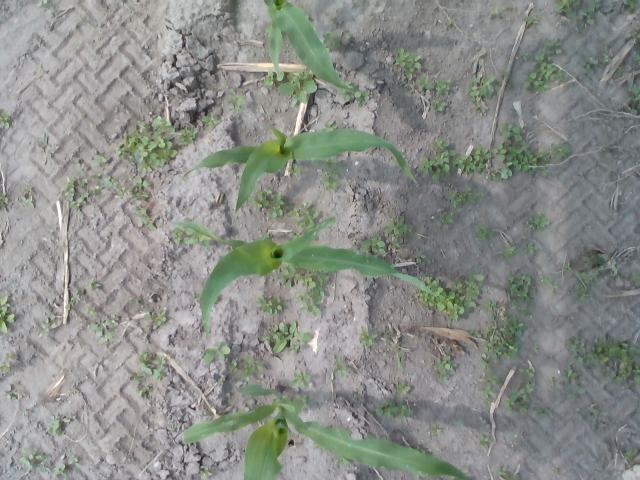Maize: (175, 216, 462, 333), (178, 382, 477, 480), (185, 125, 416, 220), (260, 0, 364, 92)
Weeds: (114, 115, 178, 174), (586, 336, 640, 387), (488, 138, 550, 182), (448, 270, 490, 322), (482, 310, 524, 362), (264, 321, 314, 355), (295, 270, 330, 318), (524, 54, 568, 92), (553, 0, 600, 35), (278, 69, 318, 106), (507, 272, 538, 317), (415, 276, 454, 310), (313, 156, 346, 192), (418, 149, 456, 180), (61, 170, 90, 210), (285, 201, 319, 234), (248, 187, 284, 218), (452, 146, 491, 174), (393, 46, 422, 80), (506, 382, 534, 417), (172, 224, 212, 248), (136, 349, 166, 380), (480, 358, 501, 400), (374, 398, 414, 420), (340, 80, 370, 108), (466, 74, 496, 102), (89, 316, 119, 344), (92, 172, 125, 196), (448, 186, 484, 208), (18, 448, 49, 472), (132, 204, 158, 230), (572, 269, 592, 301), (203, 340, 230, 363), (582, 252, 610, 274), (322, 30, 352, 50), (622, 83, 640, 116), (0, 295, 15, 334), (128, 176, 152, 200), (239, 357, 263, 381), (359, 235, 386, 256), (434, 355, 455, 382), (566, 335, 586, 363), (523, 213, 550, 233), (255, 295, 282, 315), (55, 451, 78, 474), (278, 263, 300, 287), (383, 218, 414, 234), (498, 123, 522, 142), (228, 89, 246, 114), (290, 370, 312, 390), (578, 55, 598, 76), (358, 326, 379, 346), (549, 141, 571, 160), (144, 308, 167, 326), (476, 224, 496, 244), (176, 126, 198, 144), (564, 384, 587, 400), (542, 37, 562, 55), (332, 358, 352, 376), (497, 465, 521, 480), (47, 416, 64, 437), (262, 70, 284, 86), (560, 363, 578, 382), (200, 111, 220, 128), (38, 314, 55, 334), (293, 392, 311, 410), (585, 406, 608, 420), (415, 74, 434, 90), (435, 78, 452, 95), (439, 212, 455, 229), (36, 0, 54, 15), (622, 0, 640, 15), (502, 244, 518, 260), (431, 98, 446, 114), (432, 138, 452, 150), (0, 352, 12, 372), (396, 380, 412, 395), (20, 194, 36, 208), (286, 164, 302, 178), (2, 385, 15, 402), (518, 366, 536, 378), (523, 13, 539, 26), (0, 108, 9, 130), (599, 54, 613, 68), (622, 448, 639, 459), (200, 466, 213, 480), (92, 154, 107, 166), (66, 295, 78, 310), (0, 191, 10, 208), (321, 122, 338, 132), (87, 277, 100, 290), (428, 423, 442, 435), (416, 446, 432, 456), (336, 456, 352, 466), (414, 251, 427, 263), (562, 262, 574, 275), (526, 242, 538, 255), (139, 385, 152, 397), (482, 299, 496, 310), (628, 26, 640, 38), (132, 372, 144, 384), (478, 436, 490, 448), (536, 408, 549, 419), (550, 280, 560, 294), (228, 358, 238, 372), (395, 354, 404, 368), (537, 274, 549, 284), (632, 52, 640, 66), (128, 300, 142, 308), (38, 135, 48, 146), (313, 443, 326, 451), (83, 306, 96, 314), (391, 238, 401, 248), (292, 228, 302, 238), (489, 6, 500, 15), (259, 231, 270, 240), (265, 22, 272, 36), (193, 290, 202, 300), (412, 231, 421, 240), (532, 342, 540, 352), (610, 266, 620, 274), (472, 105, 482, 113), (520, 52, 530, 60), (364, 432, 374, 439), (632, 274, 640, 282), (548, 376, 554, 386), (501, 69, 511, 75), (506, 80, 514, 86), (455, 418, 463, 424), (244, 406, 250, 412)
